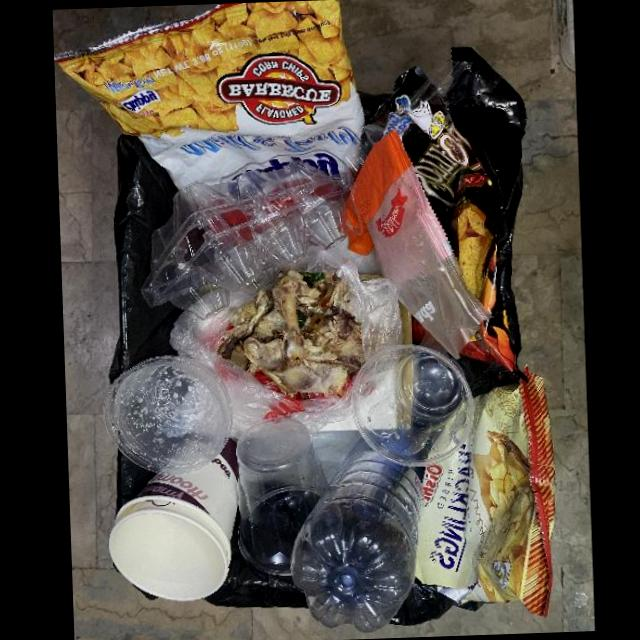bao_bi_thuc_pham: (54, 0, 364, 250), (358, 46, 527, 398), (415, 364, 554, 617), (338, 129, 489, 359)
chai_nhua_pet: (288, 426, 423, 632)
hop_nhua: (139, 160, 351, 319), (235, 417, 342, 575)
thuc_an_thua: (224, 270, 365, 394)
